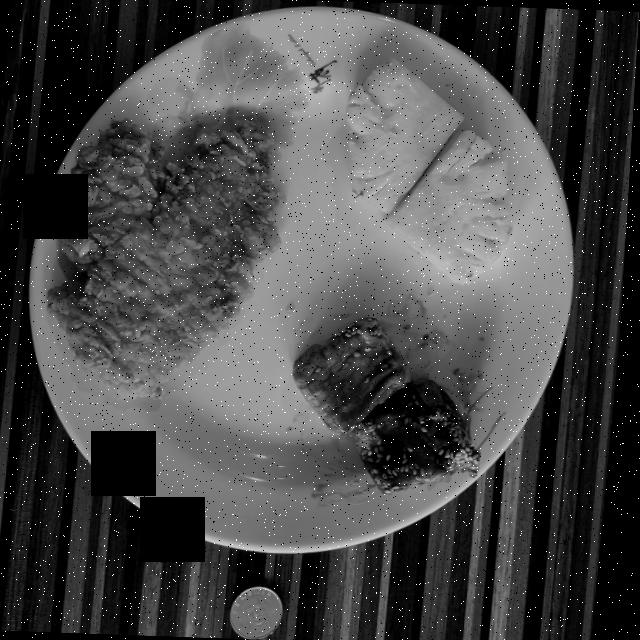coin: (237, 586, 291, 639)
creamy tofu: (297, 317, 486, 494)
fried chicken cutlet: (51, 118, 288, 399)
pineapple: (346, 55, 515, 285)
